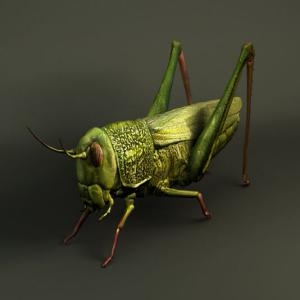locust: (64, 32, 266, 269)
